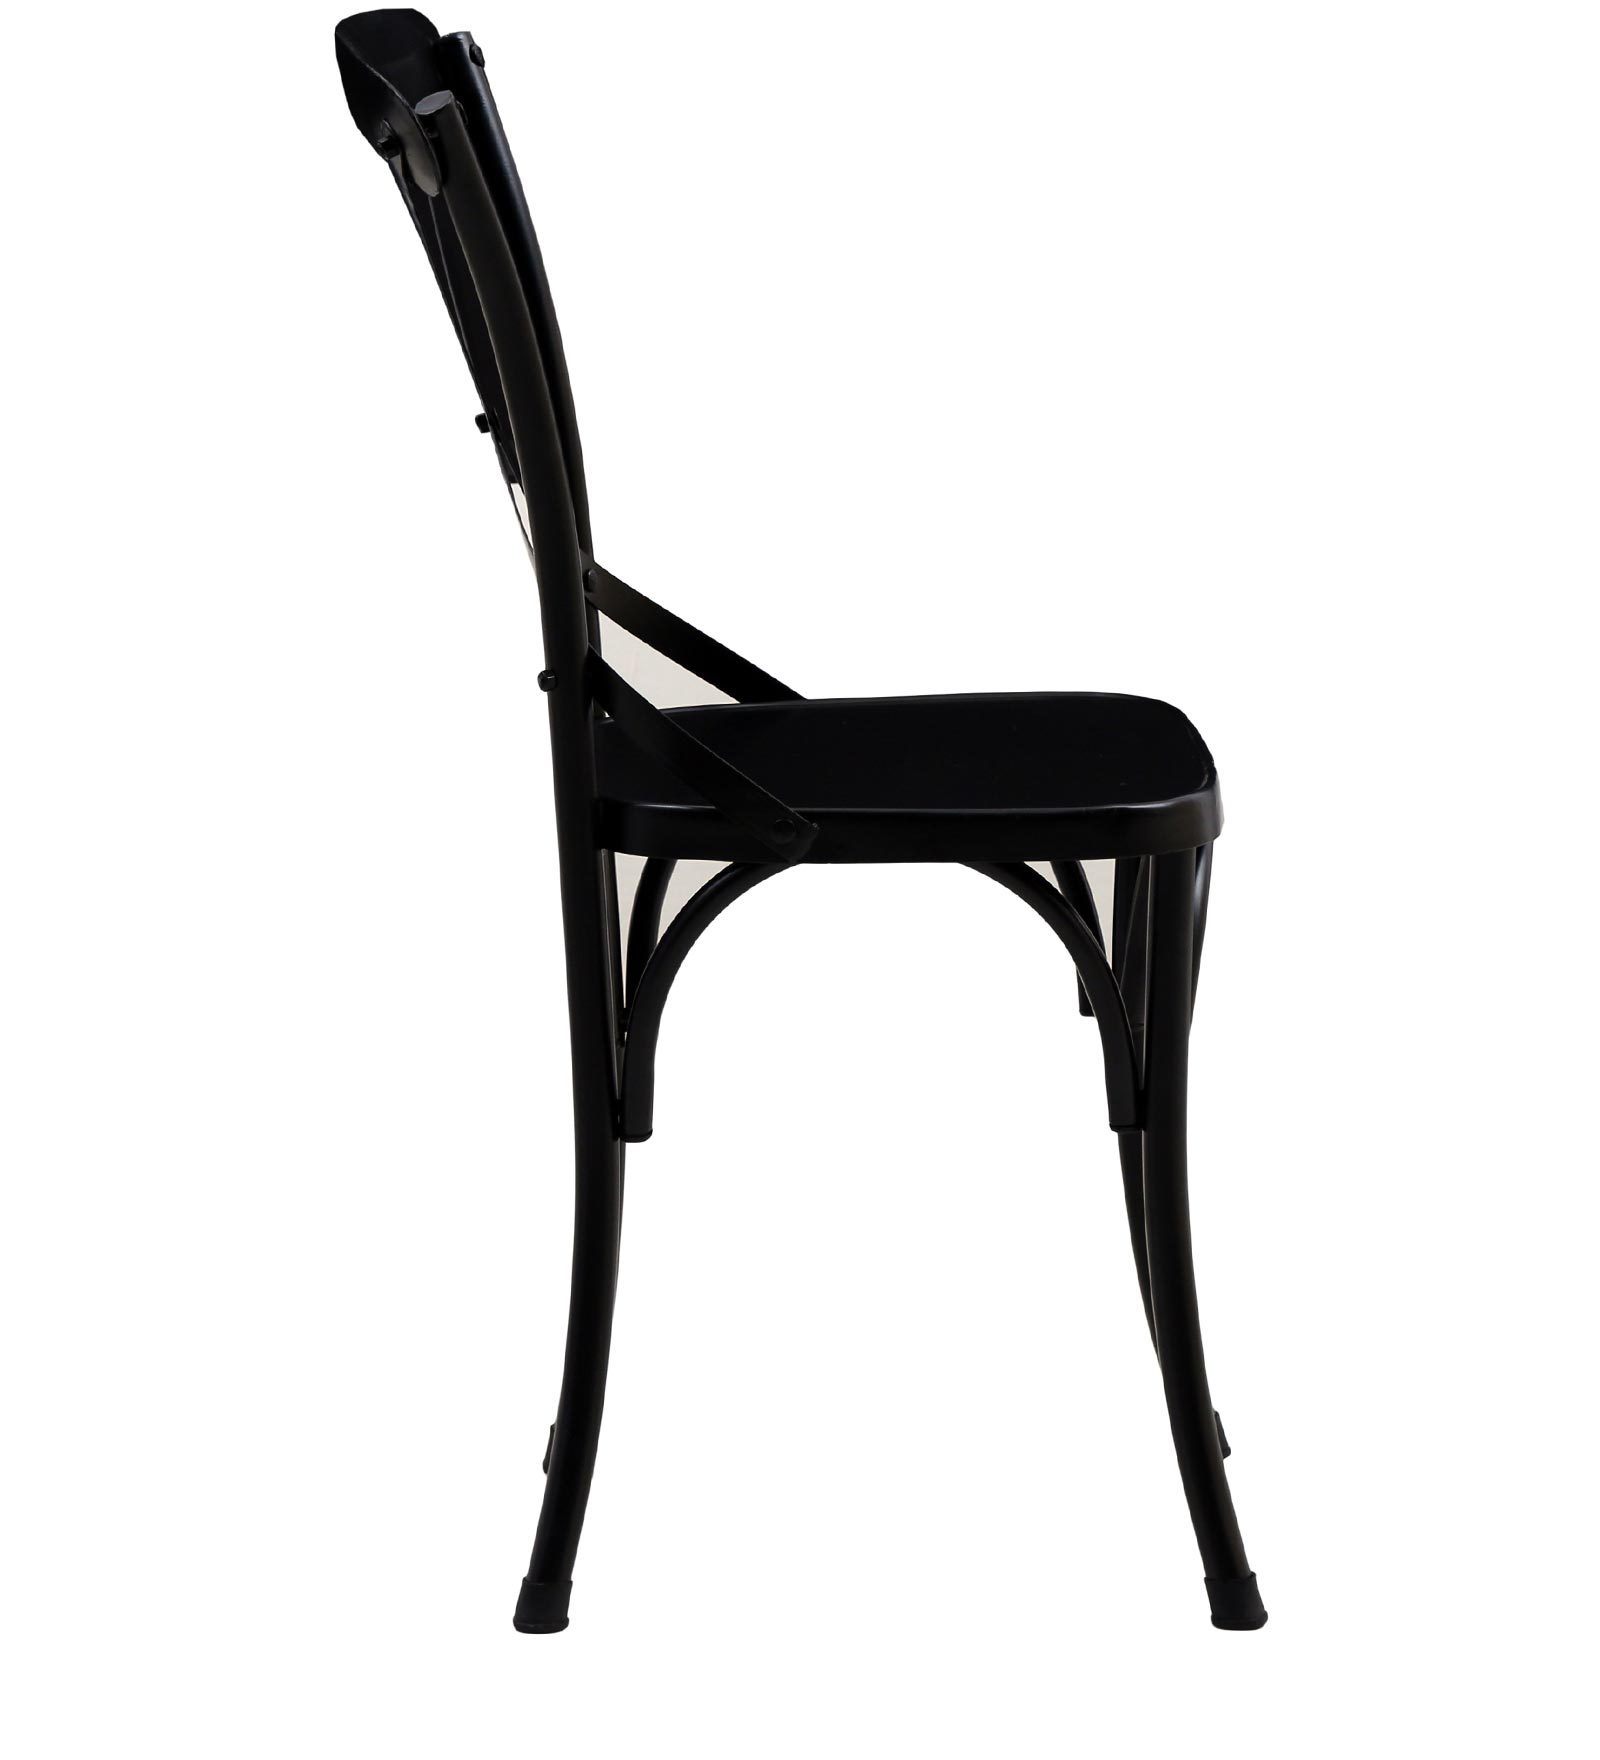Fabian Metal Chair in Black Color by Bohemiana: (270, 8, 1398, 1682)
